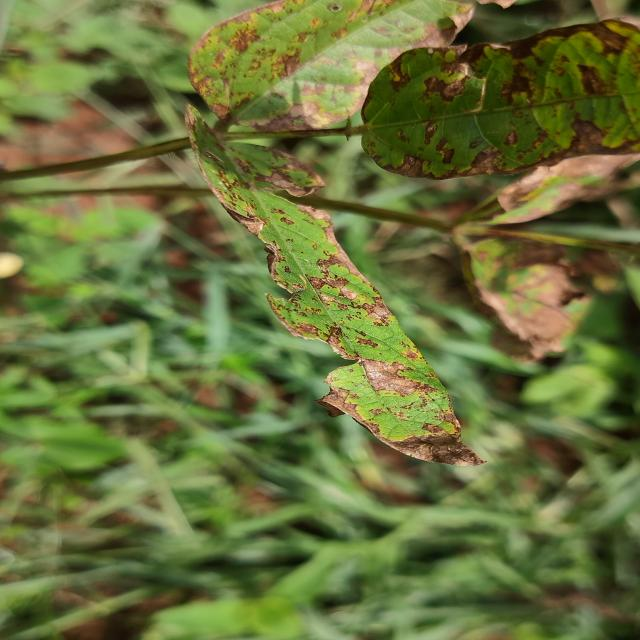Black gram_leaf spot: (185, 107, 483, 466), (362, 19, 640, 178), (188, 2, 526, 131)
